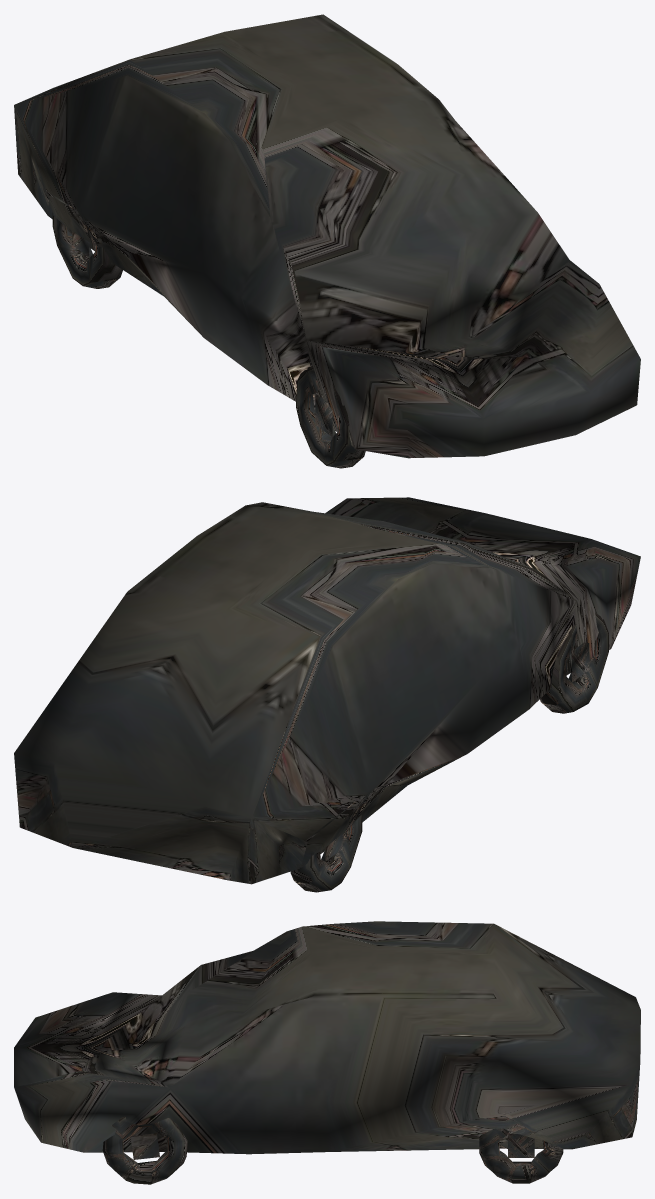
Rendered from covered_car_lod1.glb.
3 renders of one model, top to bottom at view 1: azimuth 30°, elevation 25°; view 2: azimuth 150°, elevation 25°; view 3: azimuth 270°, elevation 25°, orthographic. The views are drawn at different scales.
Visible parts, largest first — view 1: covered_car, covered_car_wheel_02, covered_car_wheel_03; view 2: covered_car, covered_car_wheel_02, covered_car_wheel_03; view 3: covered_car, covered_car_wheel_01, covered_car_wheel_04.
Boxes of the visible parts, x1,y1,x2,y2 form: covered_car: (14, 14, 640, 458); covered_car_wheel_02: (296, 367, 365, 468); covered_car_wheel_03: (52, 213, 122, 288); covered_car: (14, 497, 640, 884); covered_car_wheel_02: (540, 612, 608, 713); covered_car_wheel_03: (290, 814, 362, 892); covered_car: (14, 921, 640, 1154); covered_car_wheel_01: (102, 1116, 187, 1184); covered_car_wheel_04: (479, 1128, 563, 1183).
Bounding box in the file's own units: 1.73 × 1.4 × 4.3.
Materials: 1 (1 with a texture image).
